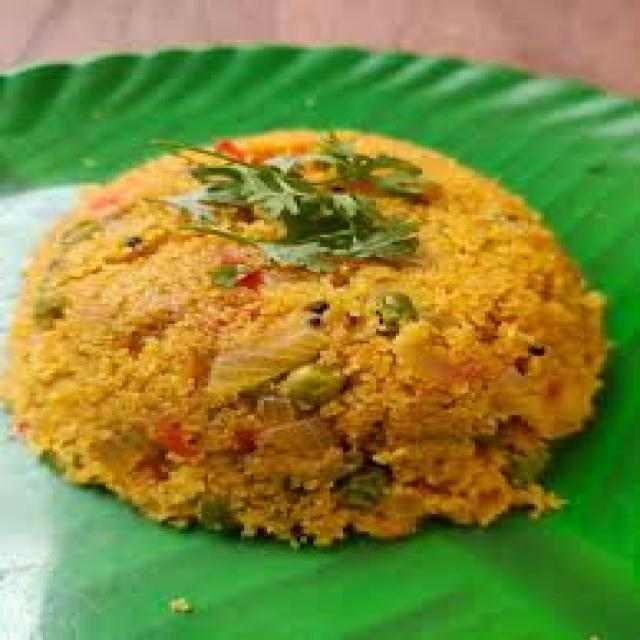UPMA: (0, 121, 604, 539)
